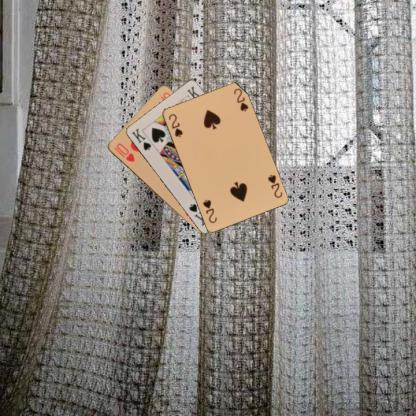10h: (111, 140, 136, 164)
2s: (166, 111, 184, 138), (265, 172, 283, 198)
Ks: (128, 125, 152, 152)
